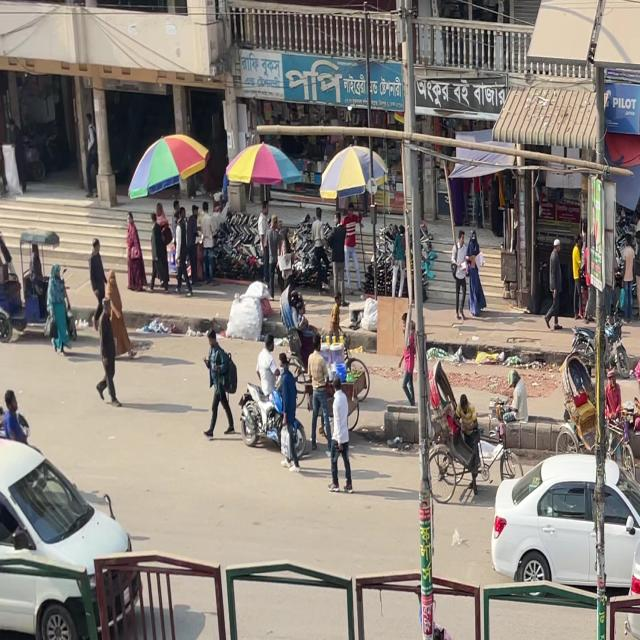car: (1, 429, 135, 640), (493, 476, 640, 595), (624, 516, 640, 640)
motorbike: (239, 367, 307, 463)
